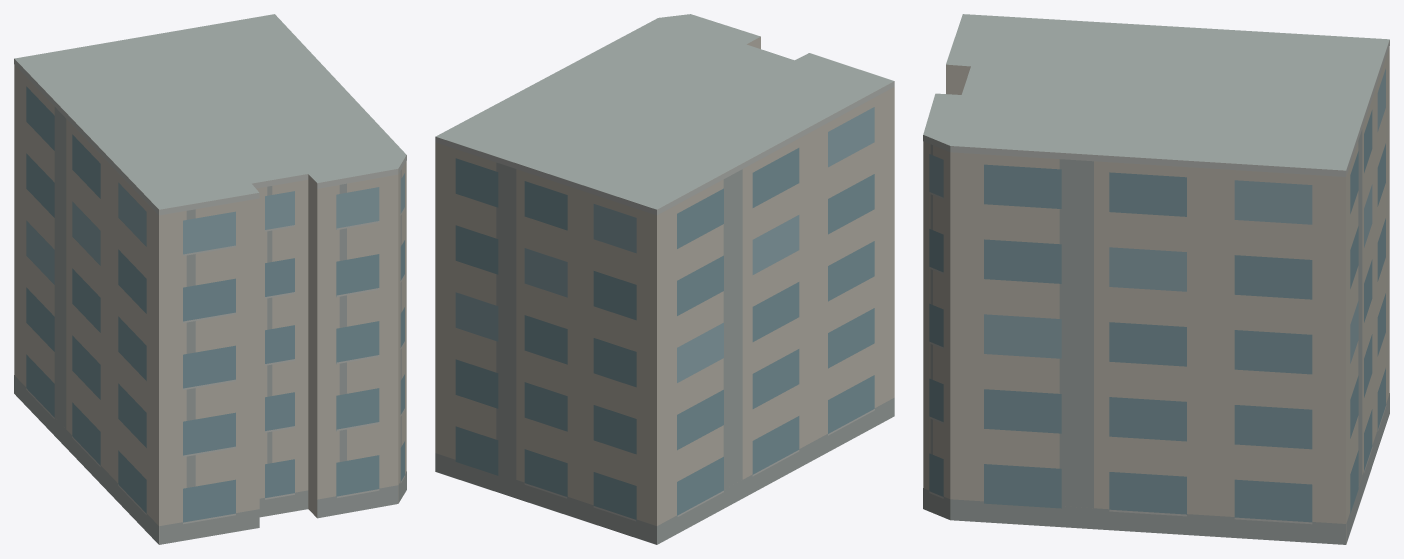
The model's file is survey-upis-32893379.glb.
3 views of the same model, side by side, from view 1: azimuth 30°, elevation 25°; view 2: azimuth 150°, elevation 25°; view 3: azimuth 270°, elevation 25° (orthographic). The views are drawn at different scales.
Visible parts, largest first — view 1: survey-upis-32893379.tmp; view 2: survey-upis-32893379.tmp; view 3: survey-upis-32893379.tmp.
Part boxes in pixels (left/top/right/bottom): survey-upis-32893379.tmp: left=14, top=14, right=406, bottom=544; survey-upis-32893379.tmp: left=435, top=14, right=894, bottom=544; survey-upis-32893379.tmp: left=923, top=14, right=1389, bottom=544.
Size of the model in its own units: 12.8 by 14.25 by 16.11.
